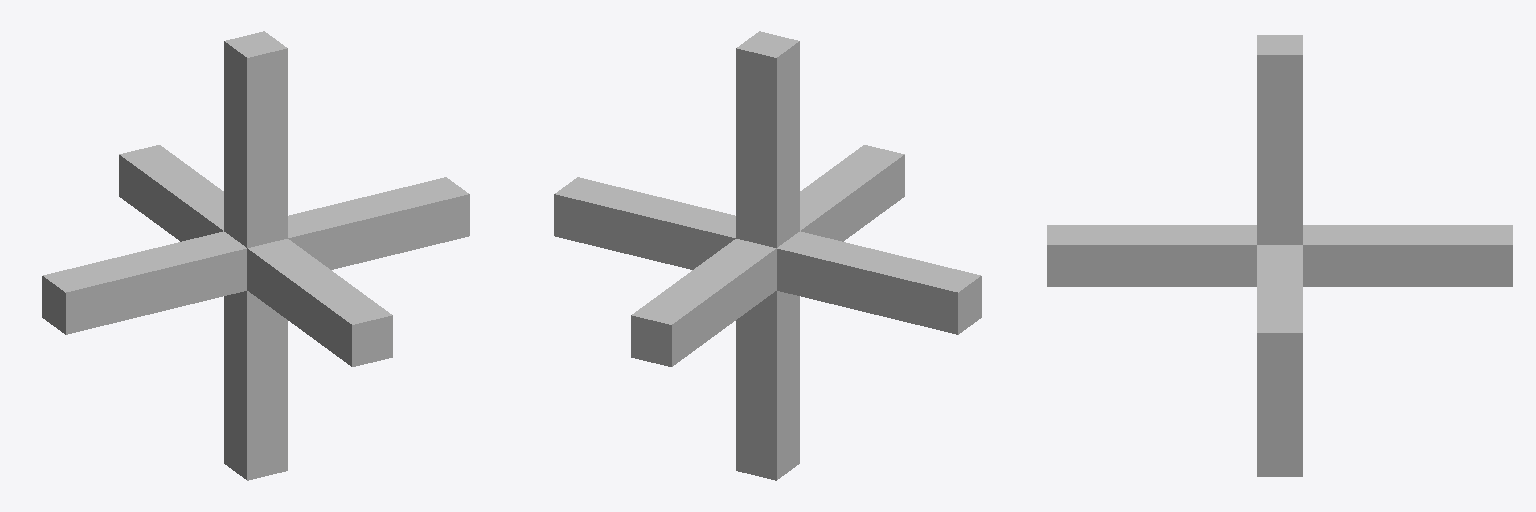
The model's file is Caltrop.obj.
3 renders of one model, left to right at view 1: azimuth 30°, elevation 25°; view 2: azimuth 150°, elevation 25°; view 3: azimuth 270°, elevation 25°, orthographic.
Visible parts, largest first — view 1: obj_0; view 2: obj_0; view 3: obj_0.
Boxes of the visible parts, box(x1,y1,x2,y2) form: obj_0: box(42, 31, 469, 480); obj_0: box(554, 31, 981, 480); obj_0: box(1047, 35, 1512, 476).
Size of the model in its own units: 100 by 100 by 100.